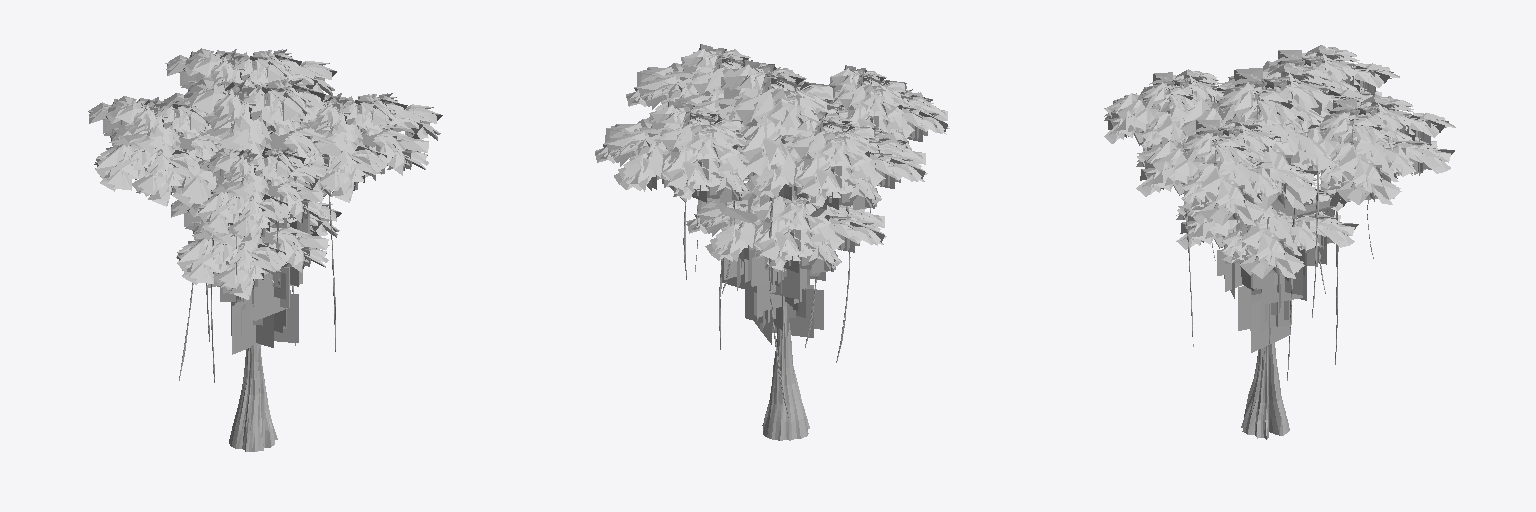
The model's file is tree.obj.
The picture shows the model from 3 angles: view 1: azimuth 30°, elevation 25°; view 2: azimuth 150°, elevation 25°; view 3: azimuth 270°, elevation 25°; orthographic projection.
Parts seen in each view (by area): view 1: bald_cypress_03:Mesh_bald_cypress_03:Leaves_4_0, bald_cypress_03:Mesh_bald_cypress_03:Leaves_4_0.004, bald_cypress_03:Mesh_bald_cypress_03:Leaves_4_0.002, bald_cypress_03:Mesh_bald_cypress_03:Leaves_4_0.005, bald_cypress_03:Mesh_bald_cypress_03:Leaves_4_0.003, cypres_chauve_CypresChauve_mousse_D_CypresChauve_mousse_D_0, bald_cypress_03:Mesh_bald_cypress_03:Leaves_4_0.001, cypres_chauve_cypreschauve_bark_D_cypreschauve_bark_D_0; view 2: bald_cypress_03:Mesh_bald_cypress_03:Leaves_4_0.001, bald_cypress_03:Mesh_bald_cypress_03:Leaves_4_0.004, bald_cypress_03:Mesh_bald_cypress_03:Leaves_4_0.003, bald_cypress_03:Mesh_bald_cypress_03:Leaves_4_0, cypres_chauve_CypresChauve_mousse_D_CypresChauve_mousse_D_0, bald_cypress_03:Mesh_bald_cypress_03:Leaves_4_0.002, bald_cypress_03:Mesh_bald_cypress_03:Leaves_4_0.005, cypres_chauve_cypreschauve_bark_D_cypreschauve_bark_D_0; view 3: bald_cypress_03:Mesh_bald_cypress_03:Leaves_4_0.005, bald_cypress_03:Mesh_bald_cypress_03:Leaves_4_0.001, bald_cypress_03:Mesh_bald_cypress_03:Leaves_4_0, bald_cypress_03:Mesh_bald_cypress_03:Leaves_4_0.003, bald_cypress_03:Mesh_bald_cypress_03:Leaves_4_0.002, cypres_chauve_CypresChauve_mousse_D_CypresChauve_mousse_D_0, bald_cypress_03:Mesh_bald_cypress_03:Leaves_4_0.004, cypres_chauve_cypreschauve_bark_D_cypreschauve_bark_D_0.
Boxes of the visible parts, x1,y1,x2,y2 form: bald_cypress_03:Mesh_bald_cypress_03:Leaves_4_0: [162, 78, 351, 206]; bald_cypress_03:Mesh_bald_cypress_03:Leaves_4_0.004: [88, 96, 226, 206]; bald_cypress_03:Mesh_bald_cypress_03:Leaves_4_0.002: [198, 148, 330, 248]; bald_cypress_03:Mesh_bald_cypress_03:Leaves_4_0.005: [296, 93, 442, 202]; bald_cypress_03:Mesh_bald_cypress_03:Leaves_4_0.003: [171, 194, 341, 299]; cypres_chauve_CypresChauve_mousse_D_CypresChauve_mousse_D_0: [208, 213, 309, 354]; bald_cypress_03:Mesh_bald_cypress_03:Leaves_4_0.001: [165, 48, 336, 95]; cypres_chauve_cypreschauve_bark_D_cypreschauve_bark_D_0: [229, 280, 277, 451]; bald_cypress_03:Mesh_bald_cypress_03:Leaves_4_0.001: [595, 100, 756, 202]; bald_cypress_03:Mesh_bald_cypress_03:Leaves_4_0.004: [739, 110, 927, 209]; bald_cypress_03:Mesh_bald_cypress_03:Leaves_4_0.003: [686, 183, 886, 273]; bald_cypress_03:Mesh_bald_cypress_03:Leaves_4_0: [667, 60, 891, 200]; cypres_chauve_CypresChauve_mousse_D_CypresChauve_mousse_D_0: [722, 186, 825, 344]; bald_cypress_03:Mesh_bald_cypress_03:Leaves_4_0.002: [829, 65, 949, 149]; bald_cypress_03:Mesh_bald_cypress_03:Leaves_4_0.005: [626, 44, 805, 120]; cypres_chauve_cypreschauve_bark_D_cypreschauve_bark_D_0: [762, 87, 809, 440]; bald_cypress_03:Mesh_bald_cypress_03:Leaves_4_0.005: [1136, 118, 1317, 225]; bald_cypress_03:Mesh_bald_cypress_03:Leaves_4_0.001: [1291, 94, 1455, 204]; bald_cypress_03:Mesh_bald_cypress_03:Leaves_4_0: [1168, 63, 1368, 211]; bald_cypress_03:Mesh_bald_cypress_03:Leaves_4_0.003: [1176, 178, 1358, 278]; bald_cypress_03:Mesh_bald_cypress_03:Leaves_4_0.002: [1104, 69, 1232, 152]; cypres_chauve_CypresChauve_mousse_D_CypresChauve_mousse_D_0: [1217, 204, 1326, 352]; bald_cypress_03:Mesh_bald_cypress_03:Leaves_4_0.004: [1217, 45, 1399, 117]; cypres_chauve_cypreschauve_bark_D_cypreschauve_bark_D_0: [1241, 87, 1289, 439].
Size of the model in its own units: 29.58 by 31.51 by 28.31.